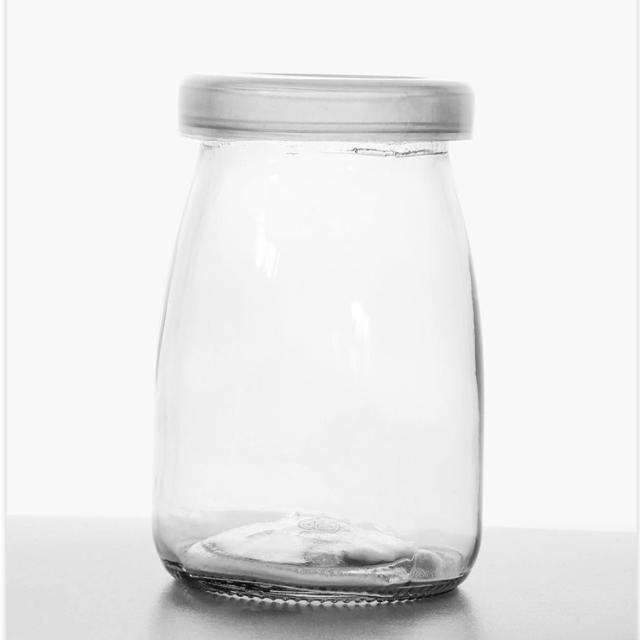recyclable: (132, 133, 520, 620)
